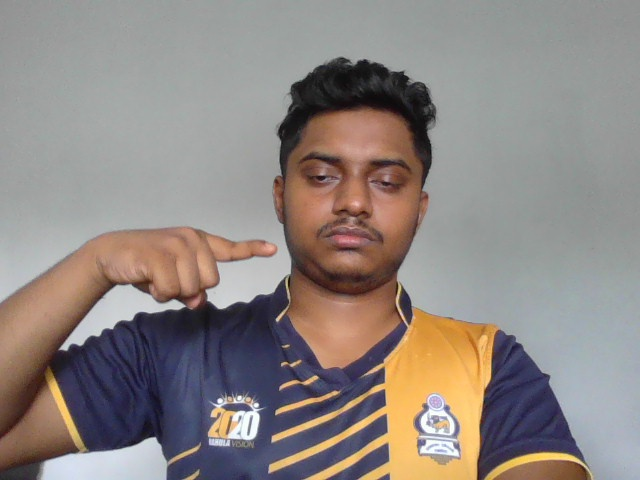Going To: (91, 216, 282, 315)
